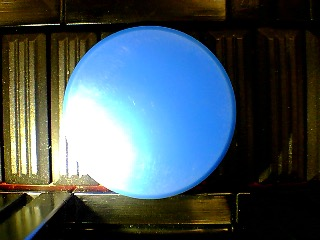BLANK: (61, 25, 236, 198)
